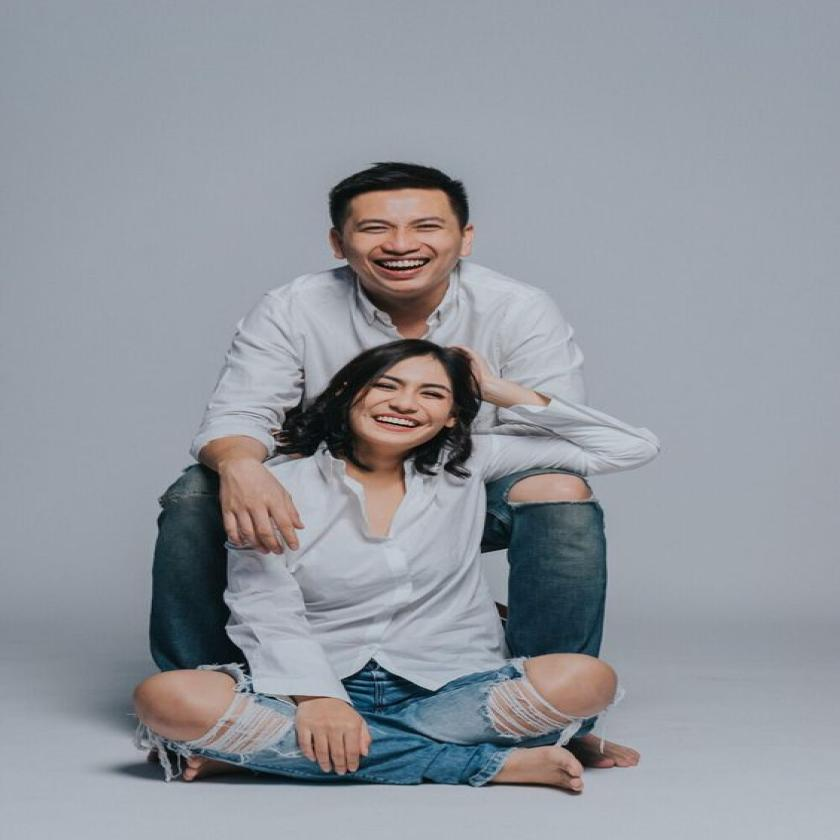Sin_casco: (316, 155, 474, 305), (335, 336, 475, 467)
